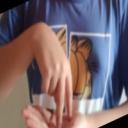hand: (27, 23, 71, 128), (20, 106, 94, 128)
